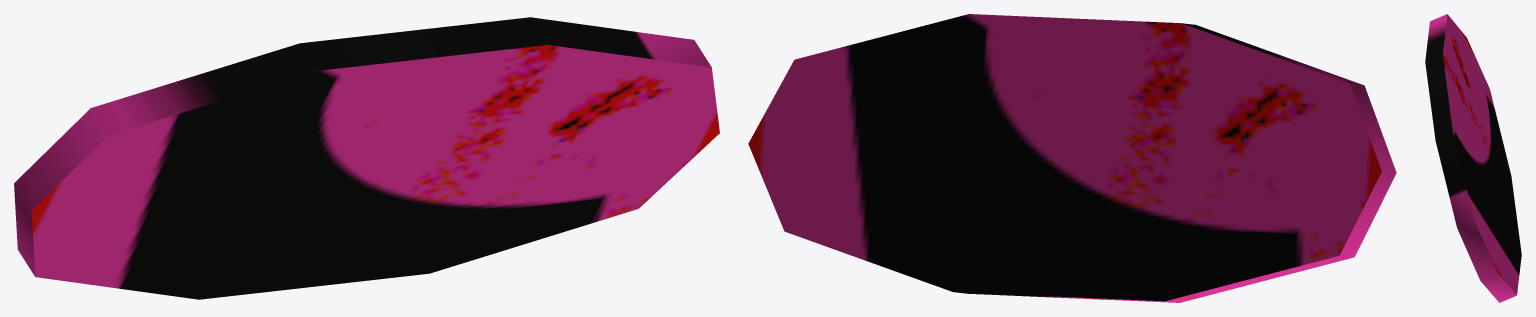
Rendered from parked.ico.obj.
3 renders of one model, left to right at view 1: azimuth 30°, elevation 25°; view 2: azimuth 150°, elevation 25°; view 3: azimuth 270°, elevation 25°, orthographic. The views are drawn at different scales.
Size of the model in its own units: 5 by 2.14 by 1.16.
